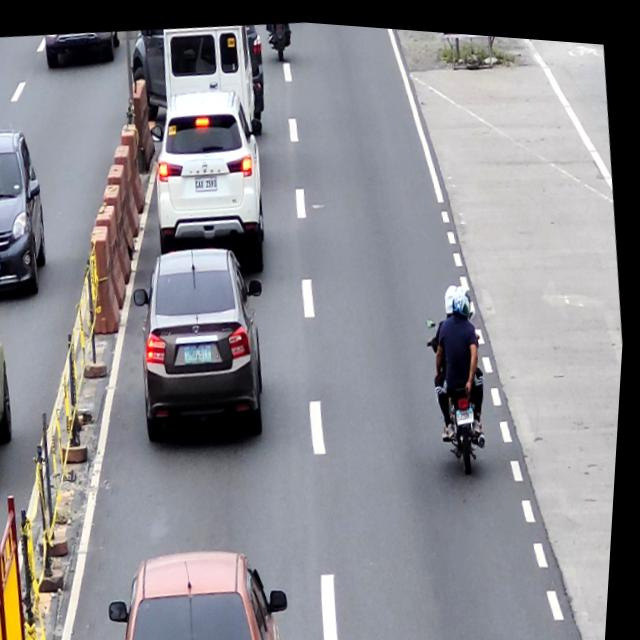Car: (125, 232, 286, 448), (142, 82, 279, 283), (108, 531, 305, 640), (125, 13, 273, 147), (156, 15, 264, 147)
License-Plate: (187, 339, 217, 364), (194, 170, 220, 190), (458, 399, 480, 420)
Motorcycle: (422, 300, 499, 471)
